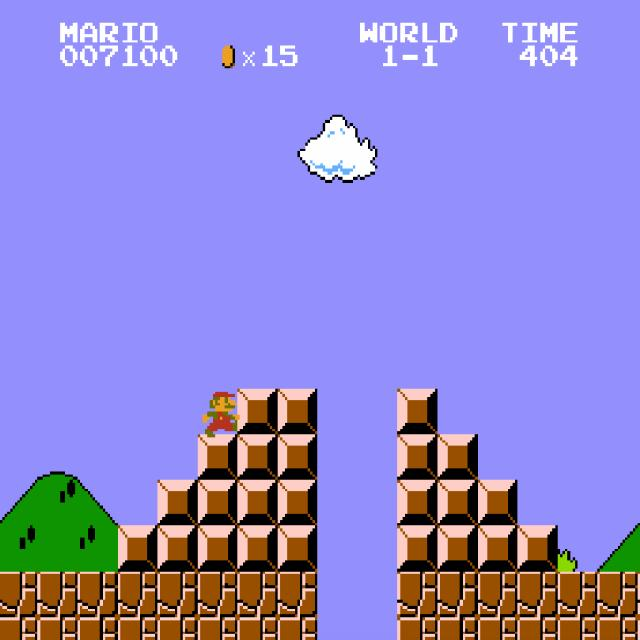hard_block: (157, 480, 198, 526), (197, 434, 238, 480), (197, 480, 238, 526), (237, 434, 278, 480), (237, 480, 278, 526), (277, 434, 318, 480), (277, 480, 318, 526), (397, 434, 438, 480), (397, 480, 438, 526), (437, 434, 478, 480), (437, 480, 478, 526), (477, 480, 518, 526), (117, 526, 158, 571), (157, 526, 198, 571), (197, 526, 238, 571), (237, 389, 278, 434), (237, 526, 278, 571), (277, 389, 318, 434), (277, 526, 318, 571), (397, 389, 438, 434), (397, 526, 438, 571), (437, 526, 478, 571), (477, 526, 518, 571), (517, 526, 558, 571)
little_mario: (203, 389, 245, 437)
undestructible_block: (37, 572, 78, 617), (77, 572, 118, 617), (117, 572, 158, 617), (157, 572, 198, 617), (197, 572, 238, 617), (237, 572, 278, 617), (277, 572, 318, 617), (397, 572, 438, 617), (437, 572, 478, 617), (477, 572, 518, 617), (517, 572, 558, 617), (557, 572, 598, 617), (597, 572, 638, 617), (0, 572, 37, 617), (37, 617, 78, 640), (77, 617, 118, 640), (117, 617, 158, 640), (157, 617, 198, 640), (197, 617, 238, 640), (237, 617, 278, 640), (277, 617, 318, 640), (397, 617, 438, 640), (437, 617, 478, 640), (477, 617, 518, 640), (517, 617, 558, 640), (557, 617, 598, 640), (597, 617, 638, 640), (0, 617, 37, 640), (637, 571, 640, 617), (637, 617, 640, 639)
